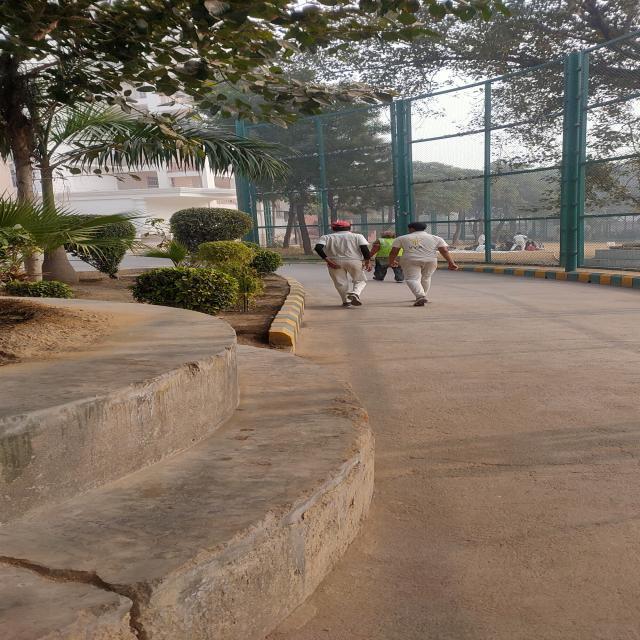unsafe: (312, 218, 376, 312), (388, 222, 456, 306)
